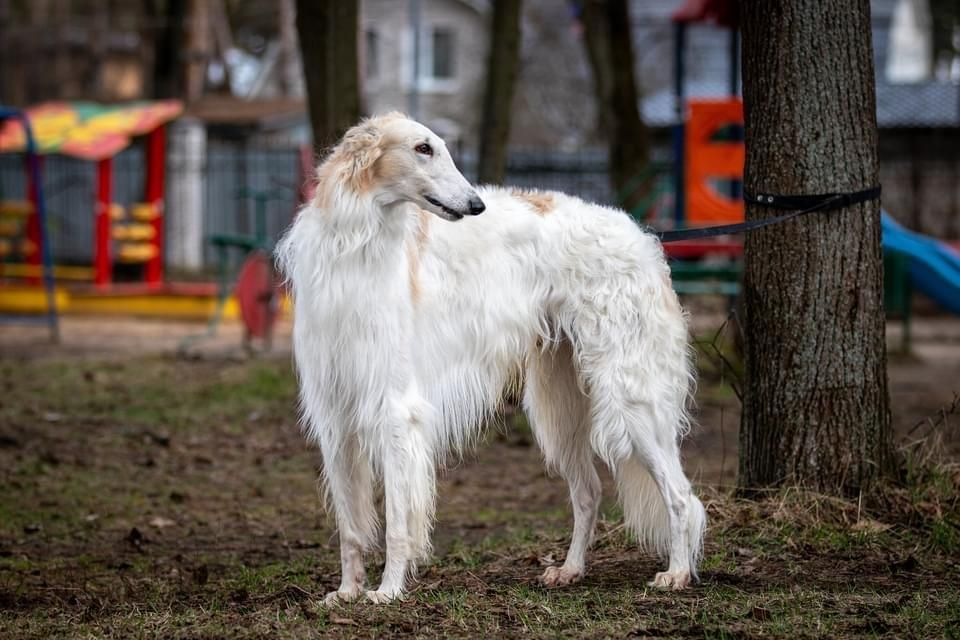borzoi: (272, 94, 711, 616)
